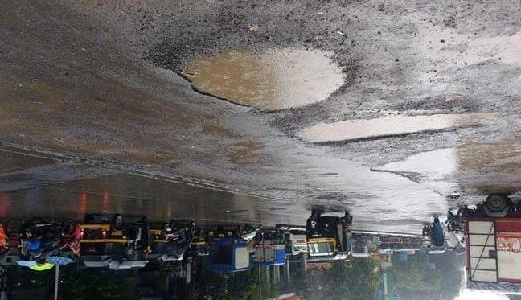pothole: (170, 45, 355, 117), (292, 110, 486, 147), (367, 138, 520, 176)
